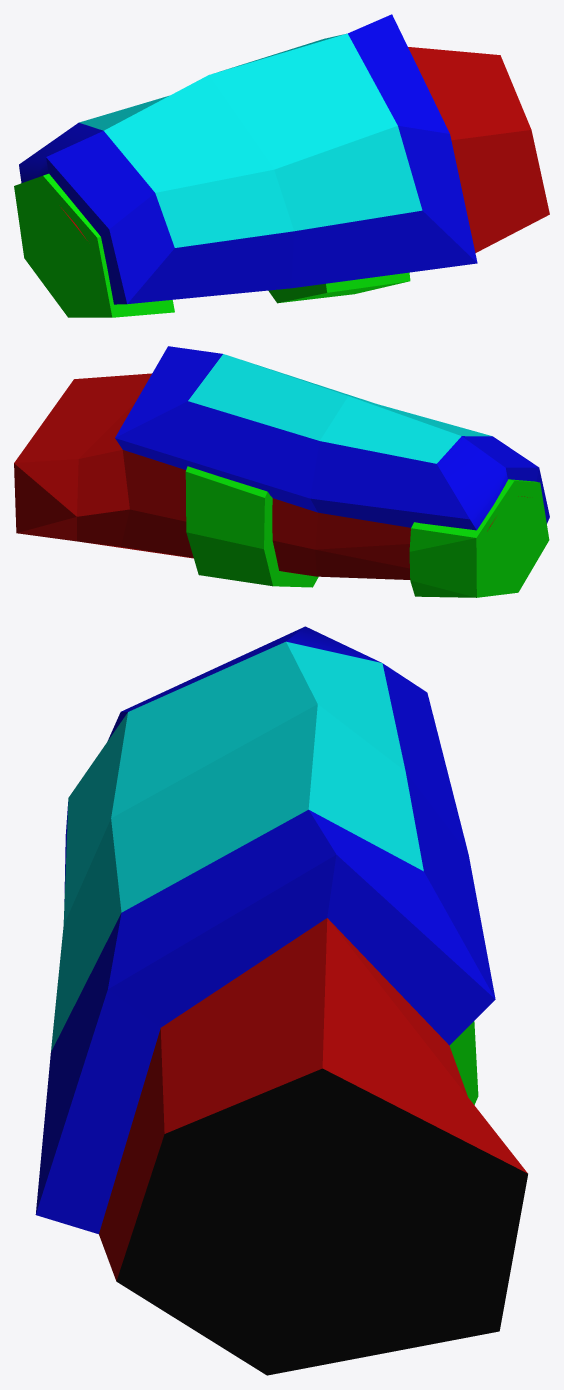
Rendered from Chr_ArmLowerRight_Male_Static_04.fbx.
3 renders of one model, top to bottom at view 1: azimuth 30°, elevation 25°; view 2: azimuth 150°, elevation 25°; view 3: azimuth 270°, elevation 25°, orthographic. The views are drawn at different scales.
Visible parts, largest first — view 1: Chr_ArmLowerRight_Male_04; view 2: Chr_ArmLowerRight_Male_04; view 3: Chr_ArmLowerRight_Male_04.
Boxes of the visible parts, <box> form: Chr_ArmLowerRight_Male_04: <box>14,14,549,317</box>; Chr_ArmLowerRight_Male_04: <box>14,346,549,597</box>; Chr_ArmLowerRight_Male_04: <box>35,626,527,1375</box>.
Bounding box in the file's own units: 29.12 × 14.55 × 13.91.
